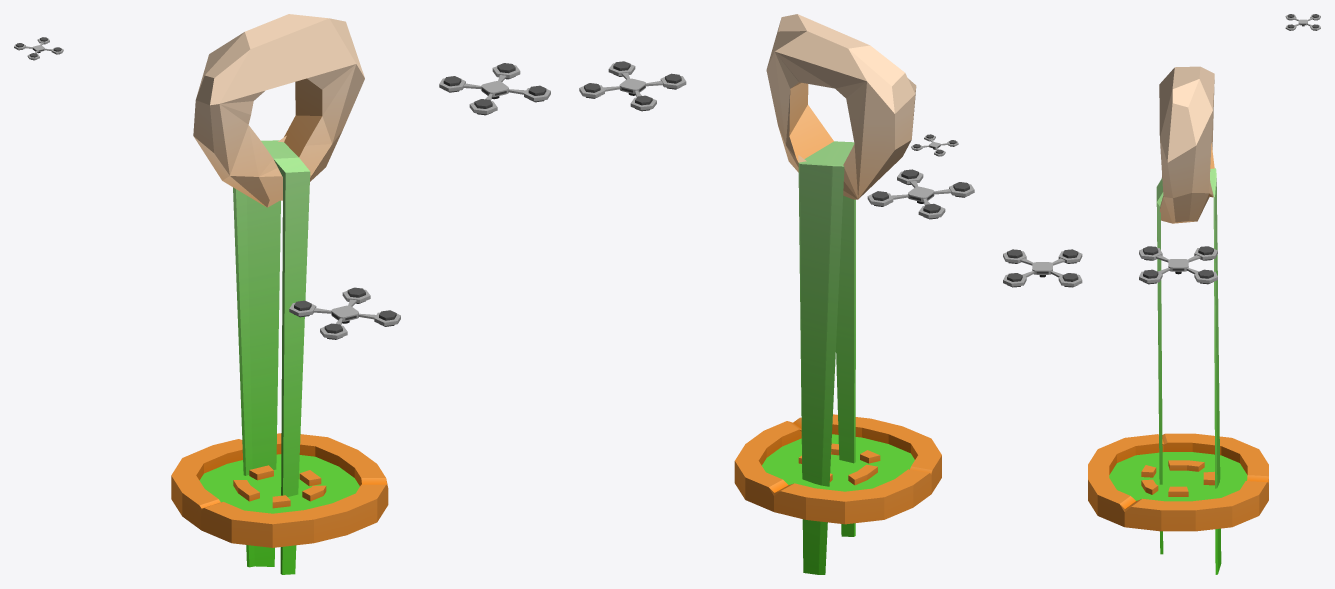
File: Portal.fbx
3 renders of one model, left to right at view 1: azimuth 30°, elevation 25°; view 2: azimuth 150°, elevation 25°; view 3: azimuth 270°, elevation 25°, orthographic. The views are drawn at different scales.
Visible parts, largest first — view 1: Portal.001, Portal, Portal.004, Portal.002; view 2: Portal.001, Portal, Portal.004, Portal.002; view 3: Portal, Portal.001, Portal.004, Portal.002.
Boxes of the visible parts, left/top/right/bottom form: Portal.001: left=193, top=14, right=364, bottom=574; Portal: left=171, top=433, right=388, bottom=547; Portal.004: left=289, top=287, right=400, bottom=339; Portal.002: left=439, top=63, right=550, bottom=115; Portal.001: left=766, top=14, right=916, bottom=574; Portal: left=734, top=414, right=941, bottom=524; Portal.004: left=867, top=169, right=974, bottom=219; Portal.002: left=579, top=61, right=686, bottom=111; Portal: left=1088, top=433, right=1268, bottom=531; Portal.001: left=1156, top=66, right=1221, bottom=574; Portal.004: left=1003, top=249, right=1082, bottom=287; Portal.002: left=1139, top=246, right=1217, bottom=284.
Size of the model in its own units: 503 by 608 by 351.
